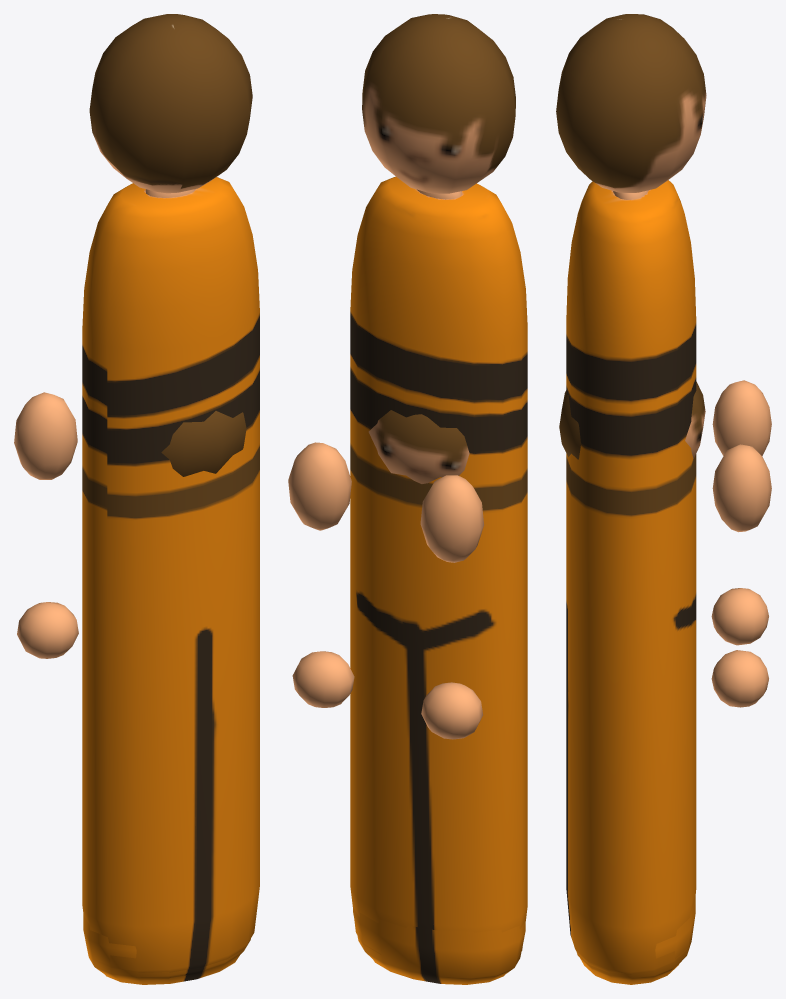
Rendered from hider_models.glb.
The picture shows the model from 3 angles, left to right: view 1: azimuth 30°, elevation 25°; view 2: azimuth 150°, elevation 25°; view 3: azimuth 270°, elevation 25°; orthographic projection.
Parts seen in each view (by area): view 1: hider_standing, hider_standing.001; view 2: hider_standing, hider_standing.001; view 3: hider_standing, hider_standing.001.
Part boxes in pixels (x1=…): hider_standing: x1=14, y1=14, x2=259, y2=984; hider_standing.001: x1=17, y1=411, x2=250, y2=981; hider_standing: x1=288, y1=14, x2=527, y2=984; hider_standing.001: x1=292, y1=410, x2=525, y2=984; hider_standing: x1=556, y1=14, x2=771, y2=984; hider_standing.001: x1=559, y1=381, x2=768, y2=980.
Size of the model in its own units: 0.3496 by 1.67 by 0.3492.
Materials: 1 (1 with a texture image).
